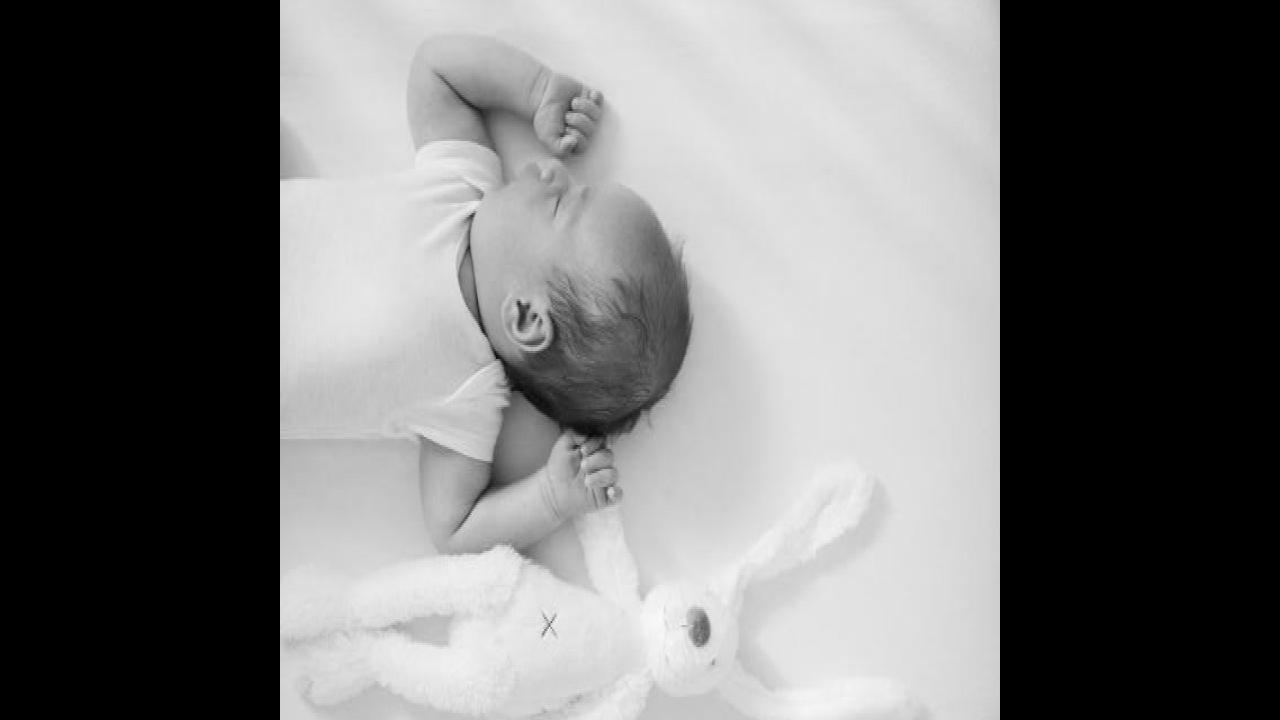hand: (551, 424, 622, 532), (533, 68, 607, 148)
